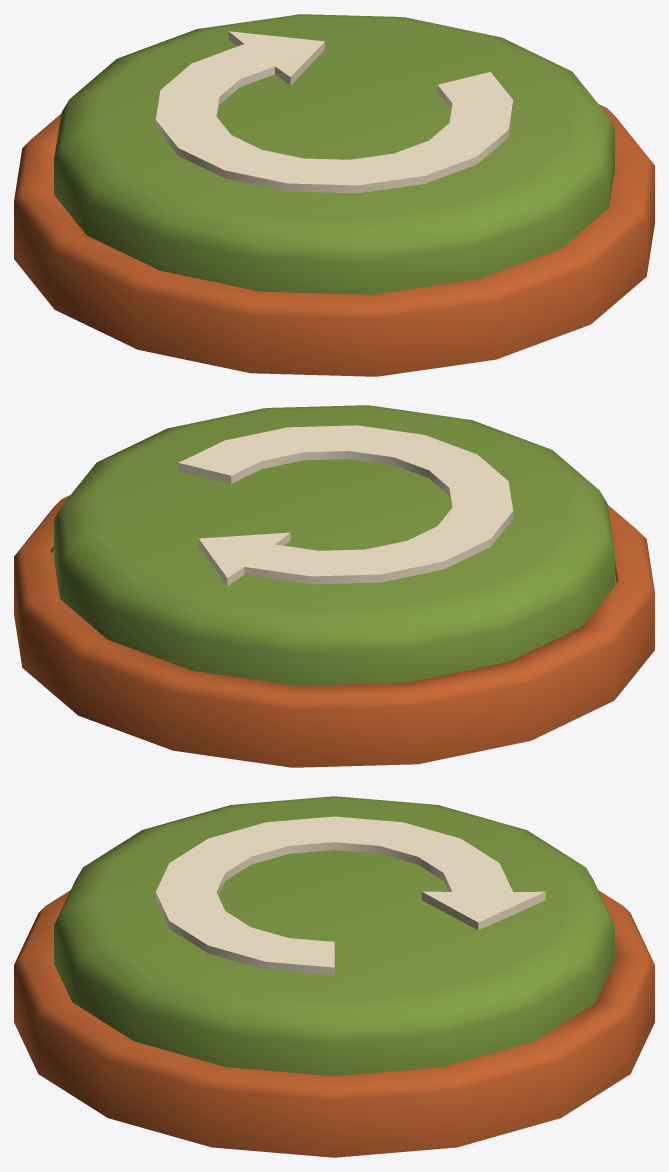
File: RestartButton.fbx
3 renders of one model, top to bottom at view 1: azimuth 30°, elevation 25°; view 2: azimuth 150°, elevation 25°; view 3: azimuth 270°, elevation 25°, orthographic.
Visible parts, largest first — view 1: cylinder1, cylinder, polymsh_extracted; view 2: cylinder1, cylinder, polymsh_extracted; view 3: cylinder1, cylinder, polymsh_extracted.
Part boxes in pixels (left/top/right/bottom): cylinder1: left=54, top=14, right=614, bottom=294; cylinder: left=14, top=104, right=654, bottom=376; polymsh_extracted: left=155, top=31, right=513, bottom=193; cylinder1: left=54, top=405, right=614, bottom=685; cylinder: left=14, top=495, right=654, bottom=767; polymsh_extracted: left=178, top=425, right=513, bottom=586; cylinder1: left=54, top=796, right=614, bottom=1076; cylinder: left=14, top=890, right=654, bottom=1157; polymsh_extracted: left=155, top=816, right=545, bottom=975.
Bounding box in the file's own units: 1.03 × 0.2324 × 1.03.
Materials: 1 (1 with a texture image).
